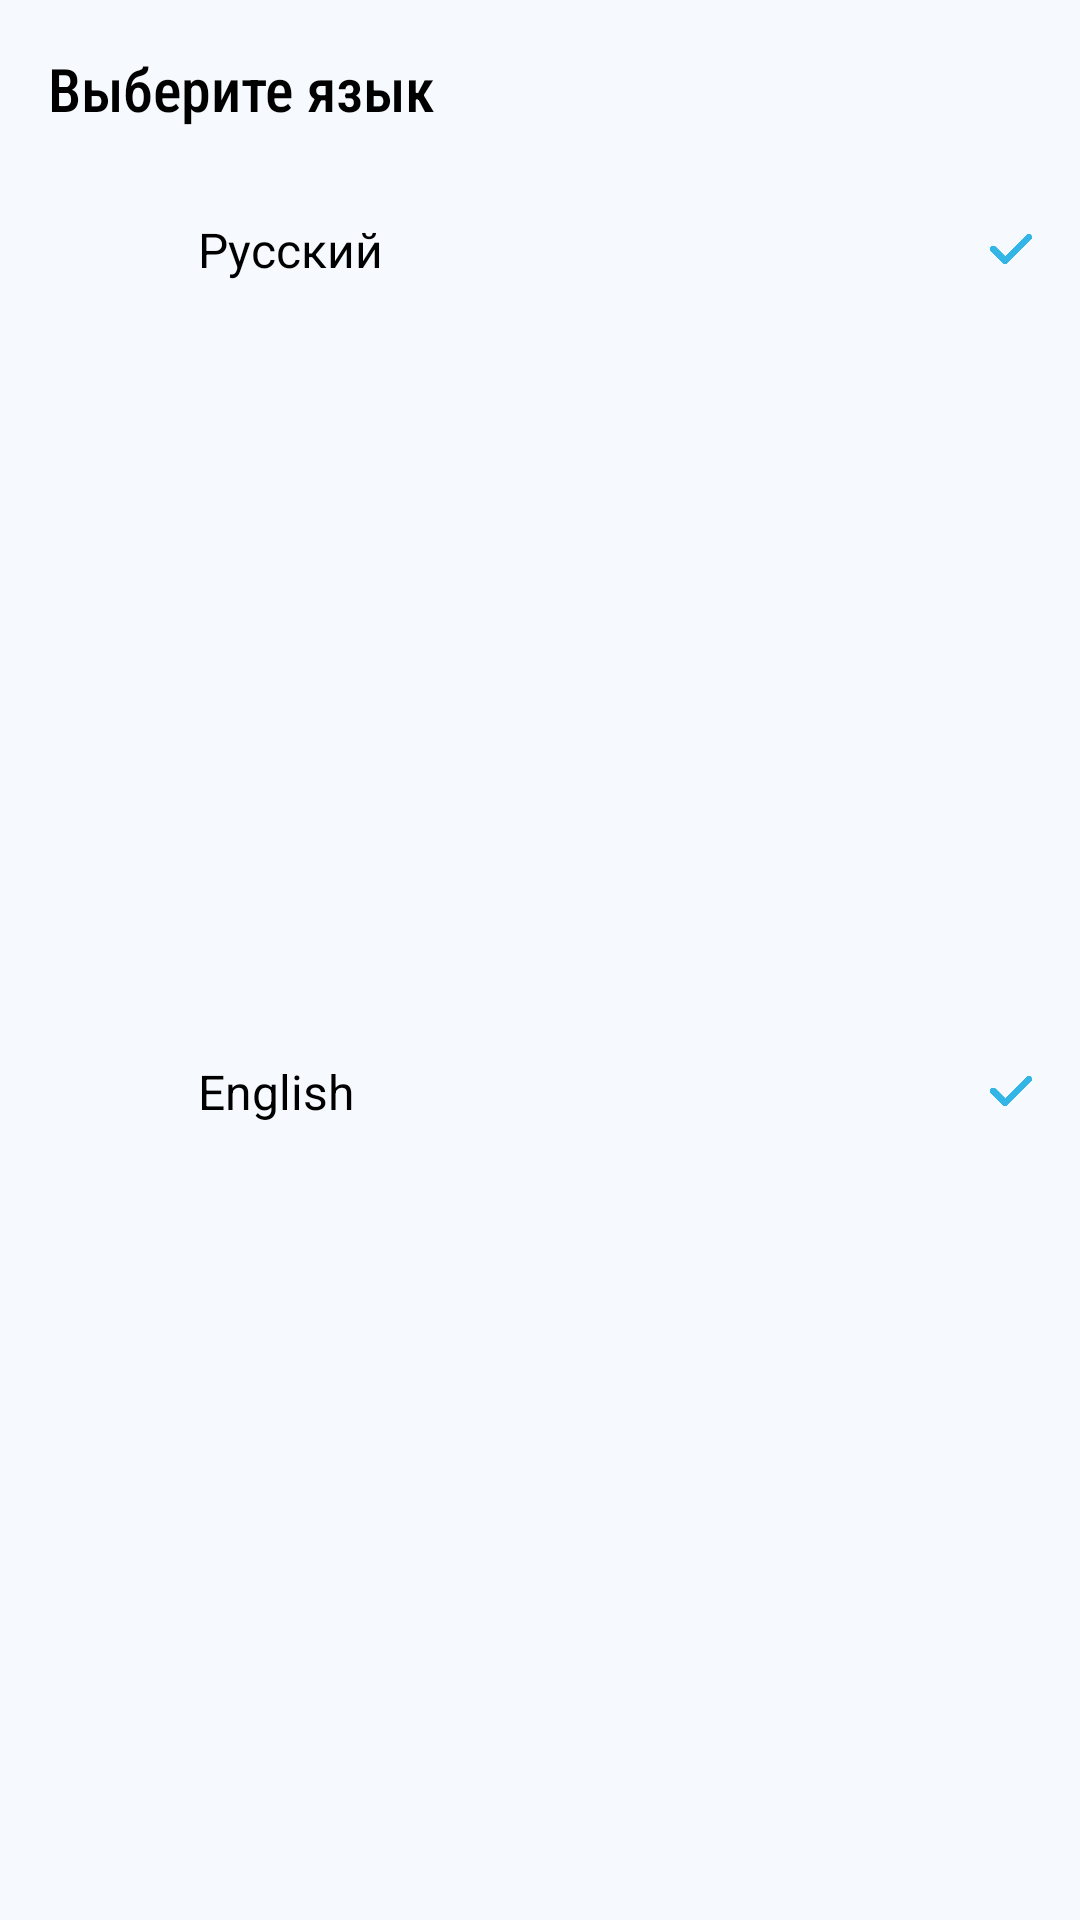

Named icons in this screenshot (1080*1920) and their centers, (x=x, y=y):
check: (x=1011, y=249), (x=1011, y=1091)
